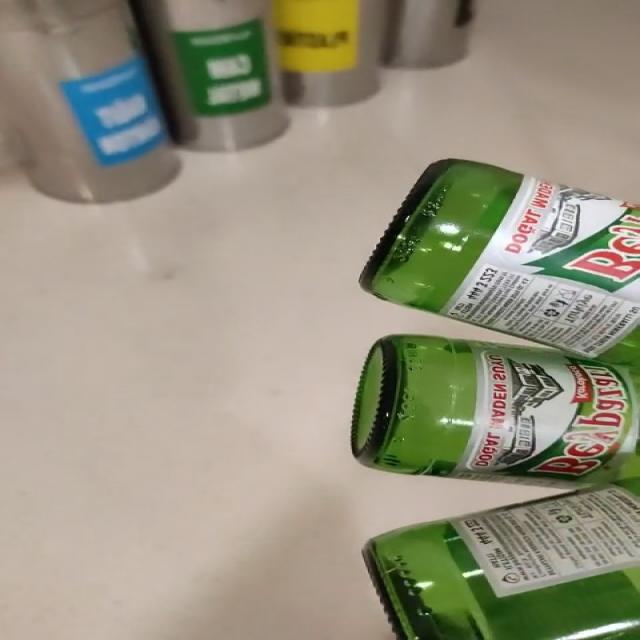glass: (353, 159, 640, 640)
